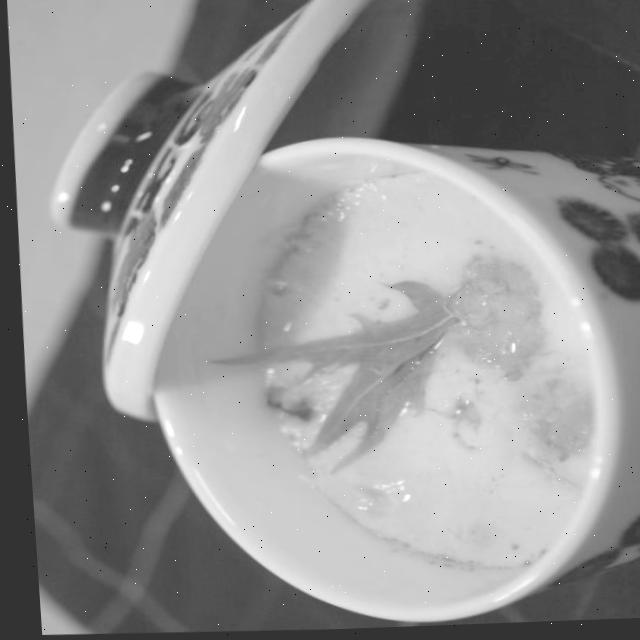鸡蛋料理: (105, 109, 640, 637)
